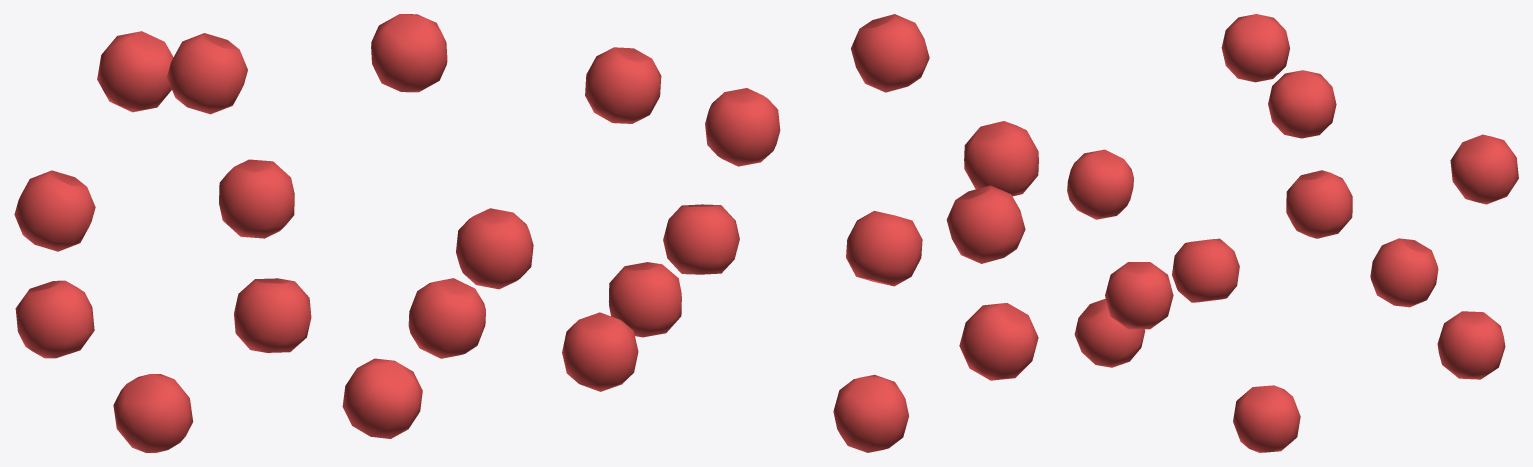
Rendered from SM_Apples.fbx.
3 renders of one model, left to right at view 1: azimuth 30°, elevation 25°; view 2: azimuth 150°, elevation 25°; view 3: azimuth 270°, elevation 25°, orthographic. The views are drawn at different scales.
Parts seen in each view (by area): view 1: Apples; view 2: Apples; view 3: Apples.
Part boxes in pixels (left/top/right/bottom): Apples: left=14, top=14, right=533, bottom=452; Apples: left=562, top=14, right=1038, bottom=452; Apples: left=1067, top=14, right=1518, bottom=452.
Size of the model in its own units: 891 by 737 by 915.
